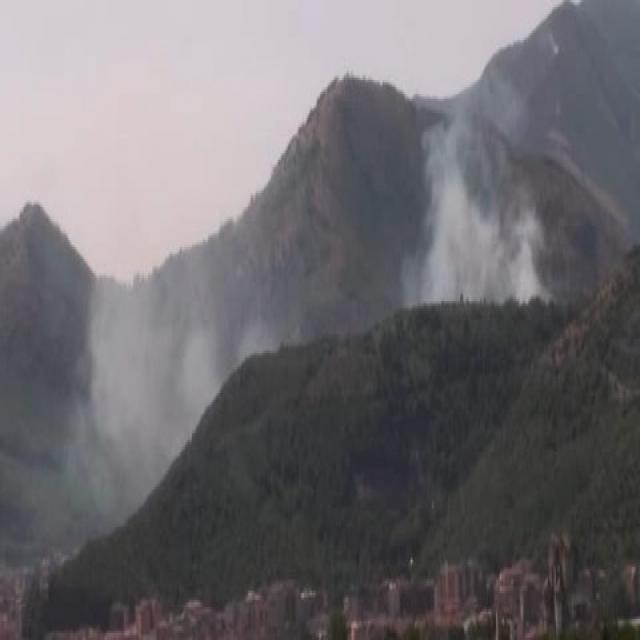smoke: (406, 129, 541, 307), (81, 294, 210, 474)
